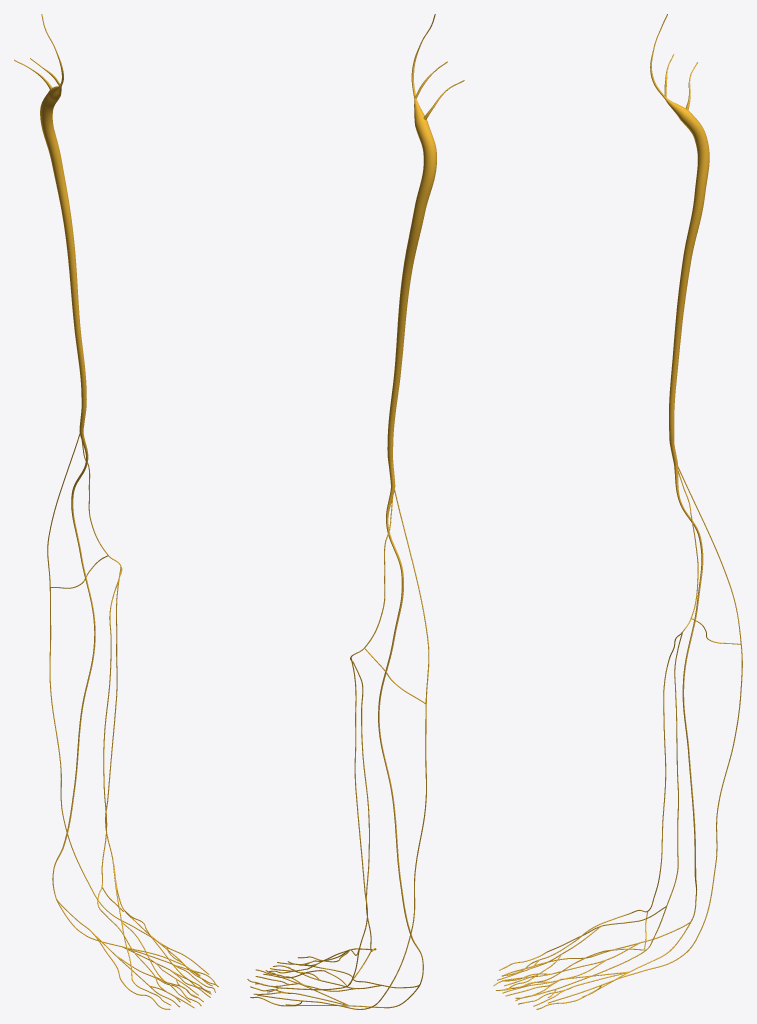
Rendered from nervoso-sciatic-nerve-l.glb.
3 views of the same model, side by side, from view 1: azimuth 30°, elevation 25°; view 2: azimuth 210°, elevation 25°; view 3: azimuth 270°, elevation 25° (orthographic). The views are drawn at different scales.
Visible parts, largest first — view 1: Sciatic nerve.l, Tibial nerve.l, Sural nerve.l, Deep fibular nerve.l, Superficial fibular nerve.l; view 2: Sciatic nerve.l, Tibial nerve.l, Sural nerve.l, Deep fibular nerve.l, Superficial fibular nerve.l; view 3: Sciatic nerve.l, Tibial nerve.l, Sural nerve.l, Deep fibular nerve.l.
Boxes of the visible parts, x1,y1,x2,y2 form: Sciatic nerve.l: (14, 14, 86, 429); Tibial nerve.l: (52, 429, 95, 897); Sural nerve.l: (47, 537, 209, 974); Deep fibular nerve.l: (97, 566, 133, 950); Superficial fibular nerve.l: (105, 567, 121, 859); Sciatic nerve.l: (387, 14, 464, 483); Tibial nerve.l: (378, 483, 423, 984); Sural nerve.l: (257, 637, 429, 1009); Deep fibular nerve.l: (337, 657, 376, 957); Superficial fibular nerve.l: (350, 657, 367, 947); Sciatic nerve.l: (650, 14, 709, 461); Tibial nerve.l: (673, 460, 703, 920); Sural nerve.l: (547, 584, 742, 1003); Deep fibular nerve.l: (572, 632, 682, 942).
Bounding box in the file's own units: 0.13 × 0.9713 × 0.233.
